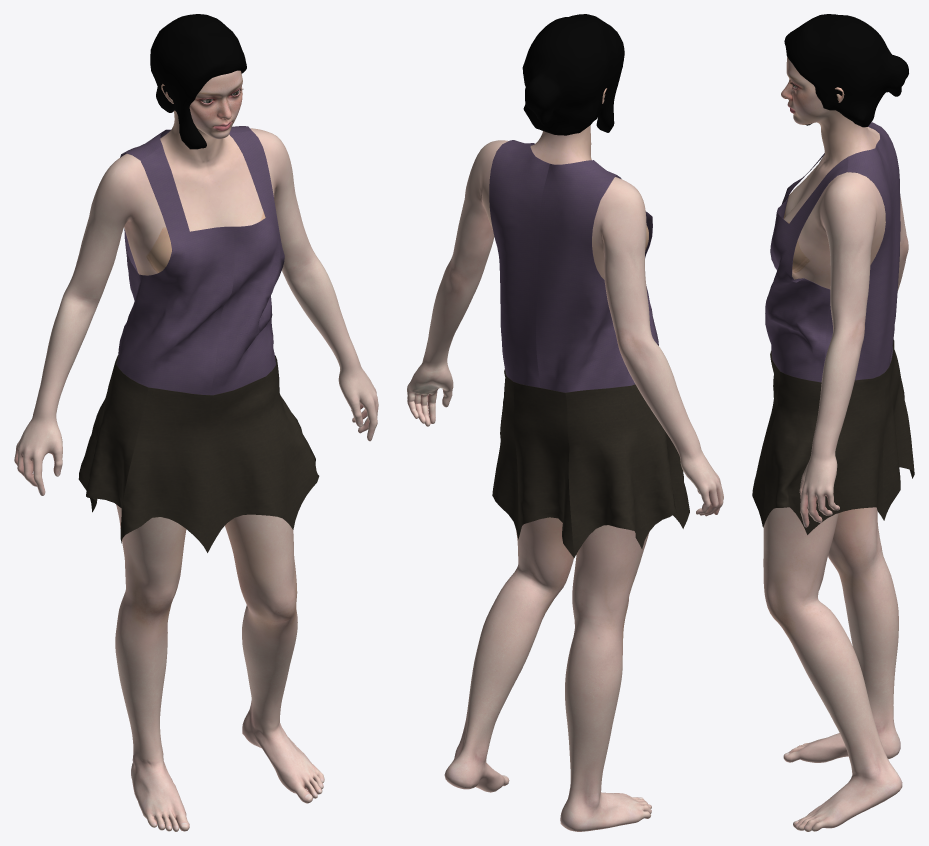
Rendered from Dynamic.obj.
3 views of the same model, side by side, from view 1: azimuth 30°, elevation 25°; view 2: azimuth 150°, elevation 25°; view 3: azimuth 270°, elevation 25° (orthographic). The views are drawn at different scales.
Bounding box in the file's own units: 775 × 1773 × 340.
